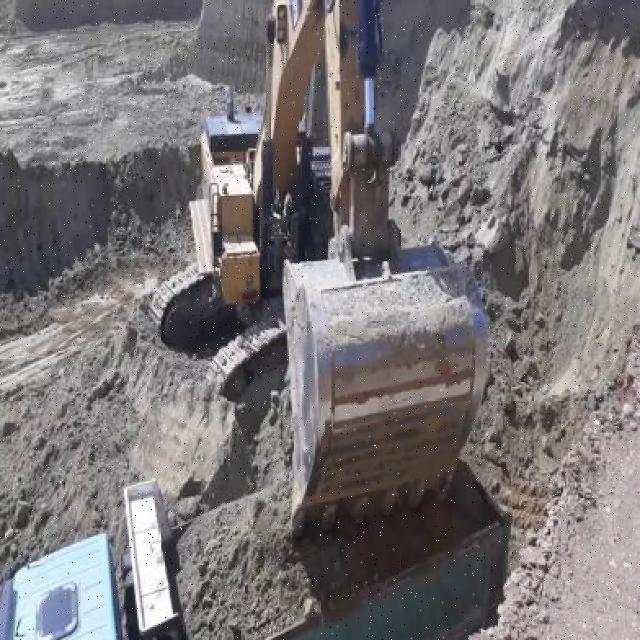Dump Truck: (0, 463, 521, 640)
Excavator: (147, 0, 491, 536)
